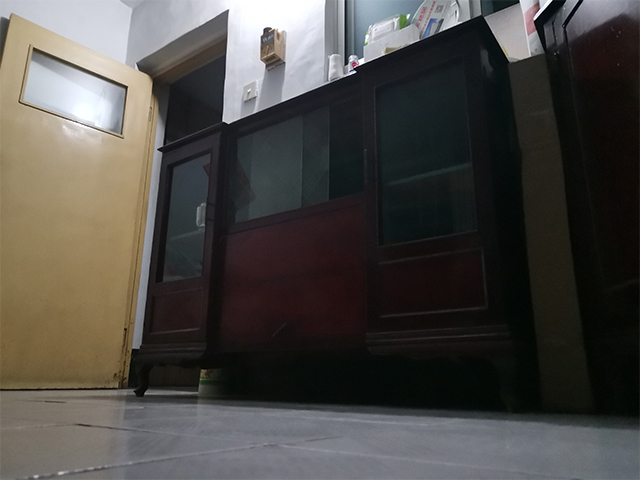cabinet: (125, 12, 546, 414), (531, 1, 640, 416)
